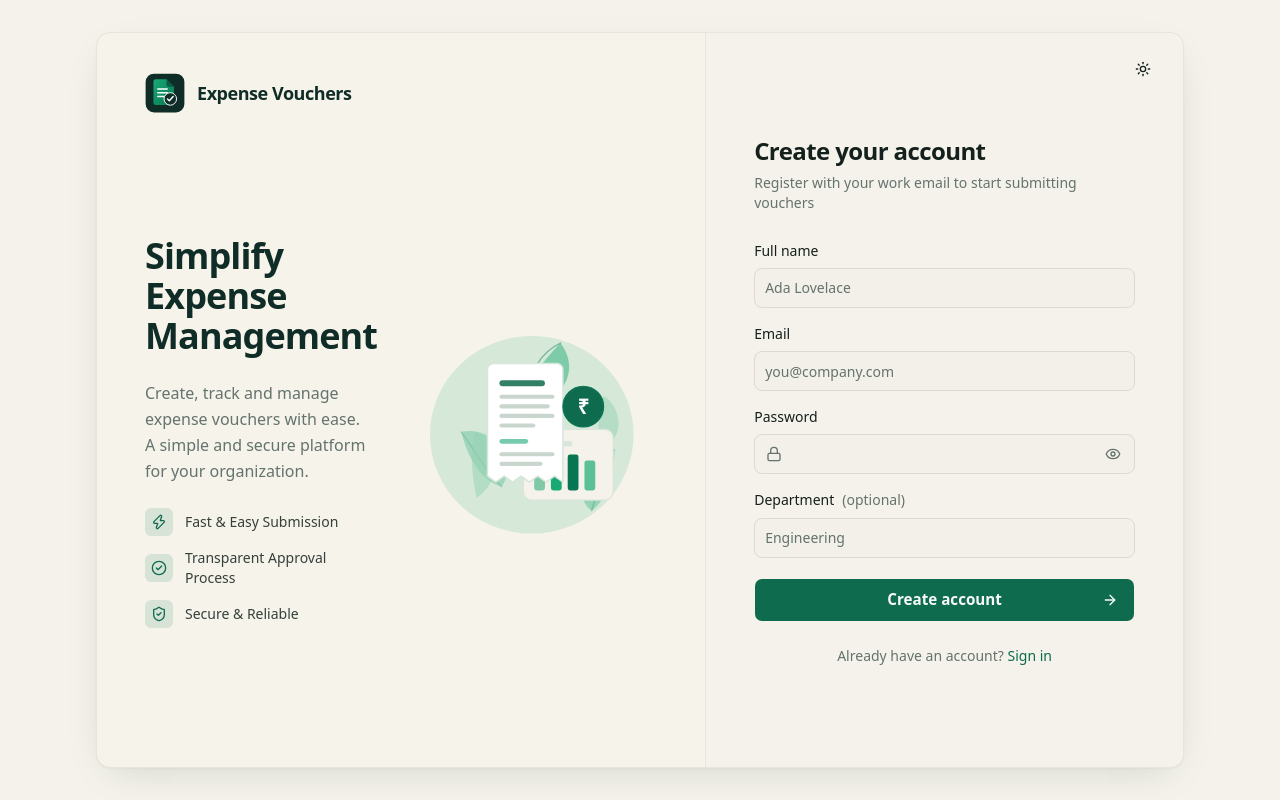
Scenario: signup page › rejects a short password with a clear message
Expected: the button "Create account" is shown, [754,578,1135,622]
In the field labelled "Full name": (945, 288) [754,268,1135,308], type "Grace Hopper"
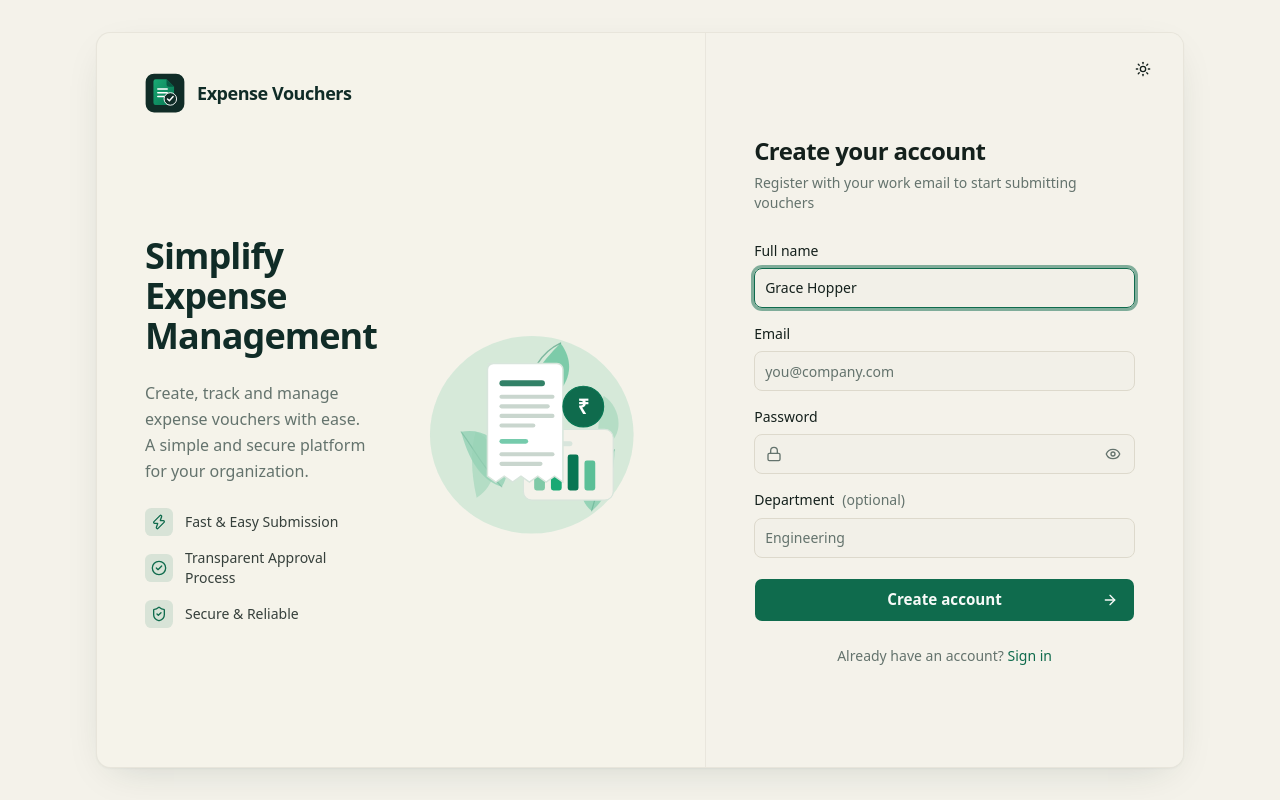
In the field labelled "Email": (945, 371) [754,351,1135,391], type "grace@abc.test"
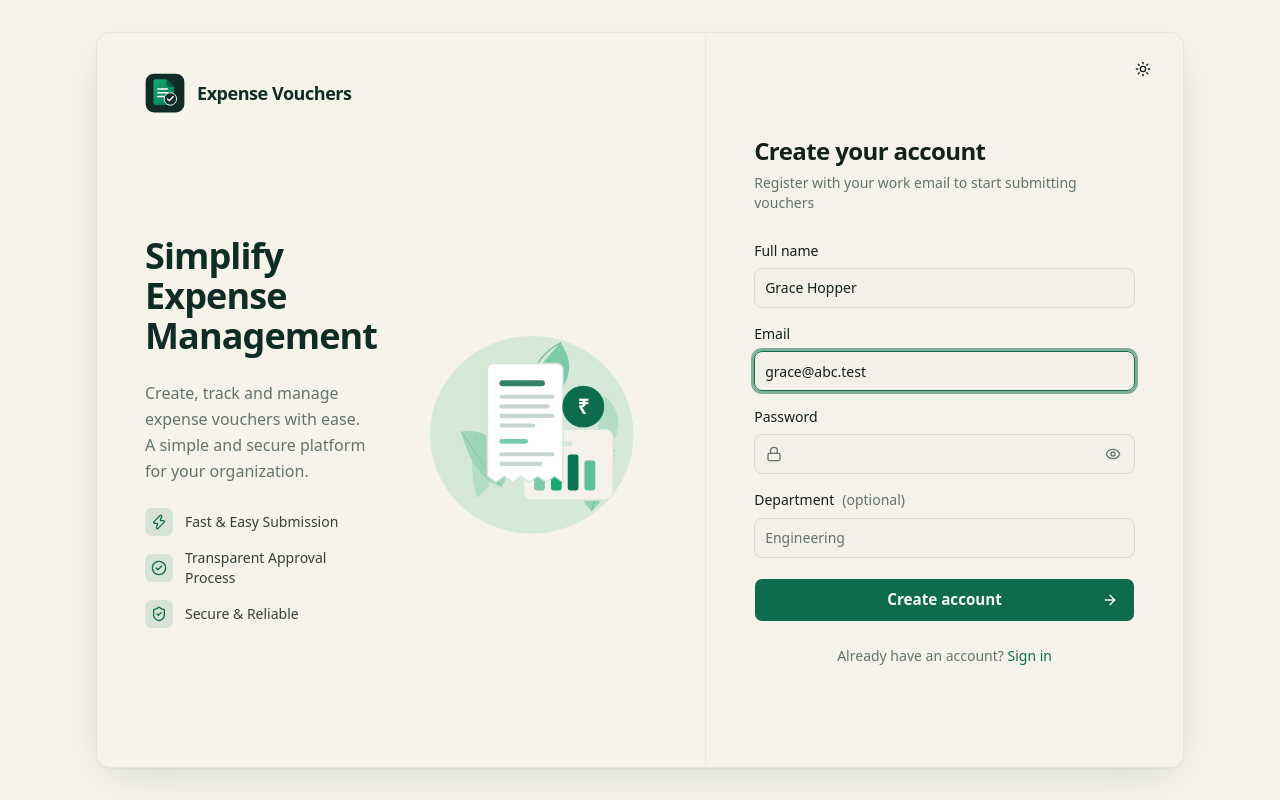
In the password field labelled "Password": (945, 454) [754,434,1135,474], type "short"
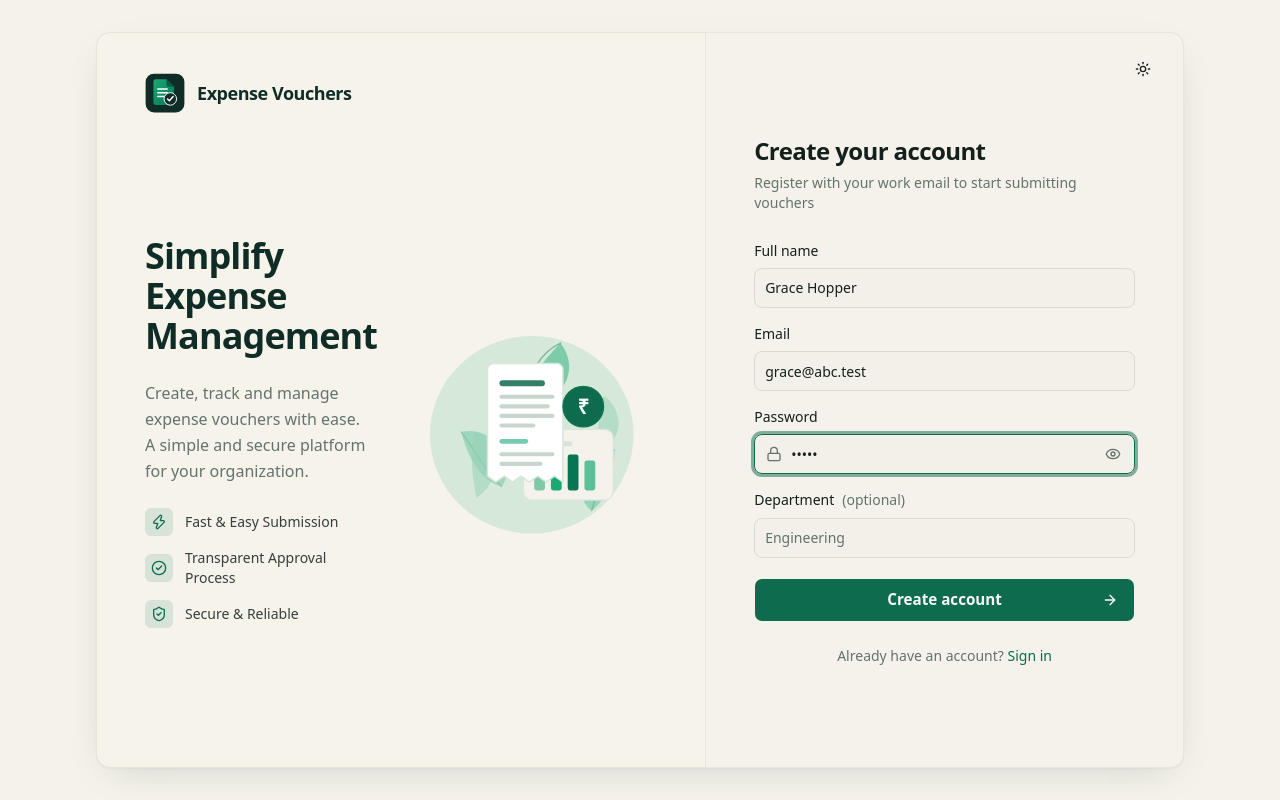
Click the button "Create account": (945, 600) [754,578,1135,622]
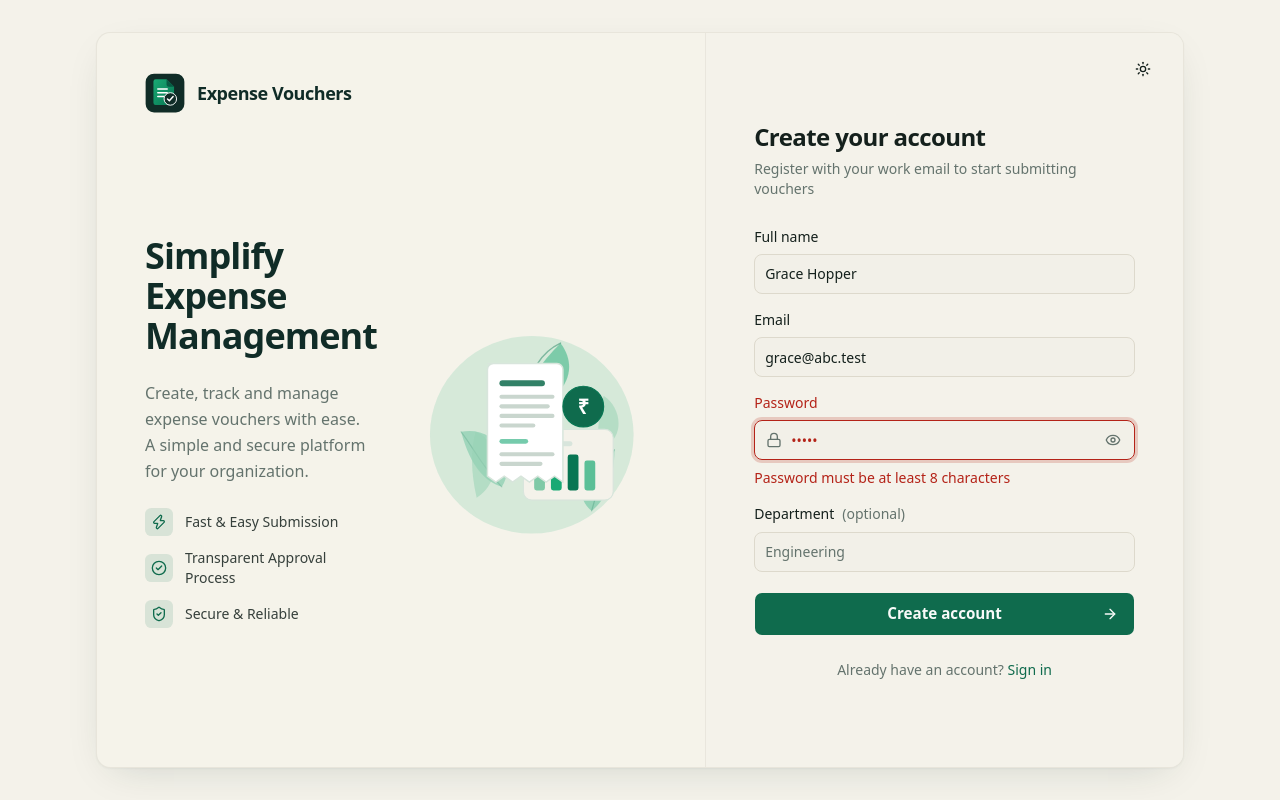
Now the text "Password must be at least 8 characters" is shown, box [754,468,1010,487]
